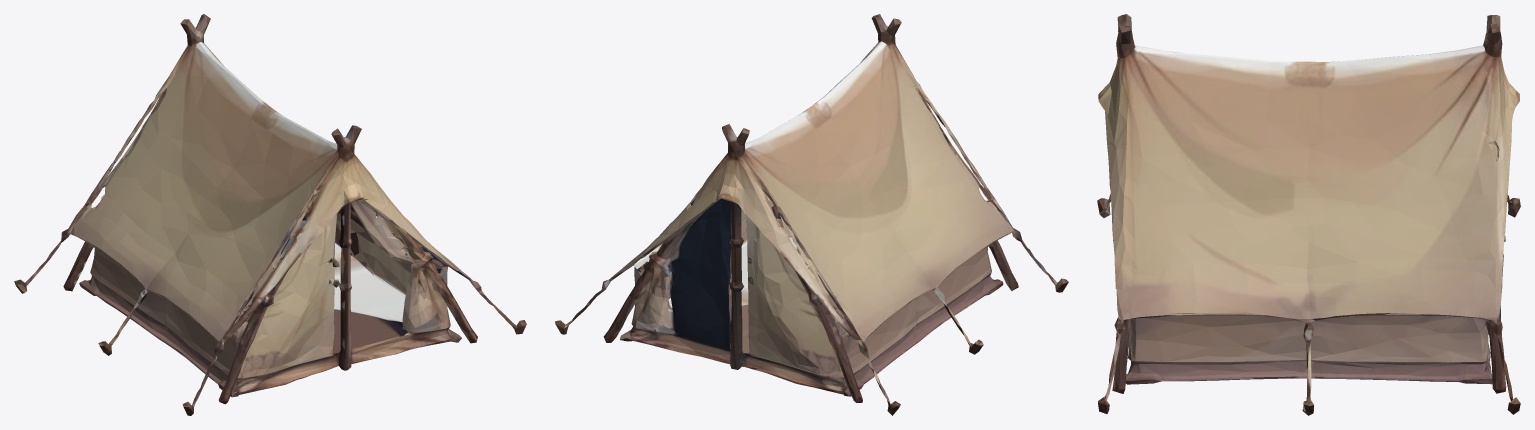
The model's file is tent.glb.
The picture shows the model from 3 angles, left to right: view 1: azimuth 30°, elevation 25°; view 2: azimuth 150°, elevation 25°; view 3: azimuth 270°, elevation 25°; orthographic projection. The views are drawn at different scales.
Parts seen in each view (by area): view 1: tmpjnyha4ms.ply; view 2: tmpjnyha4ms.ply; view 3: tmpjnyha4ms.ply.
Boxes of the visible parts, <box> form: tmpjnyha4ms.ply: <box>14,14,526,415</box>; tmpjnyha4ms.ply: <box>555,14,1068,415</box>; tmpjnyha4ms.ply: <box>1097,14,1520,415</box>.
Bounding box in the file's own units: 2 × 1.36 × 1.74.
Materials: 1 (1 with a texture image).
